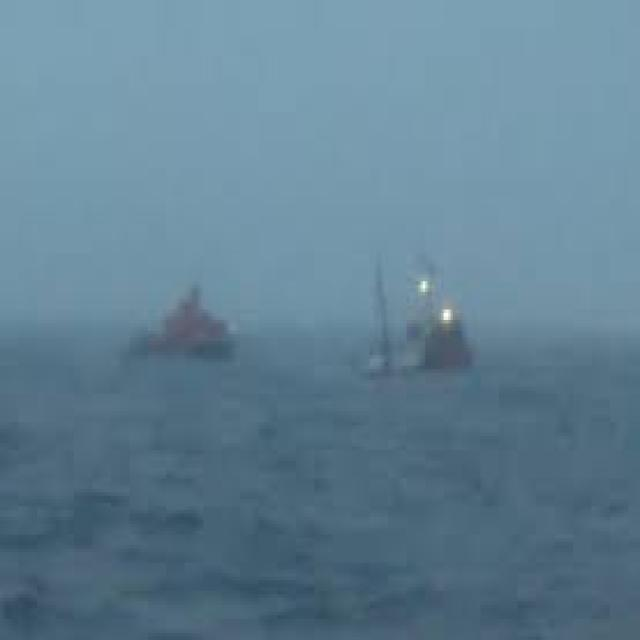fishing boat: (103, 261, 240, 380), (358, 260, 483, 387)
